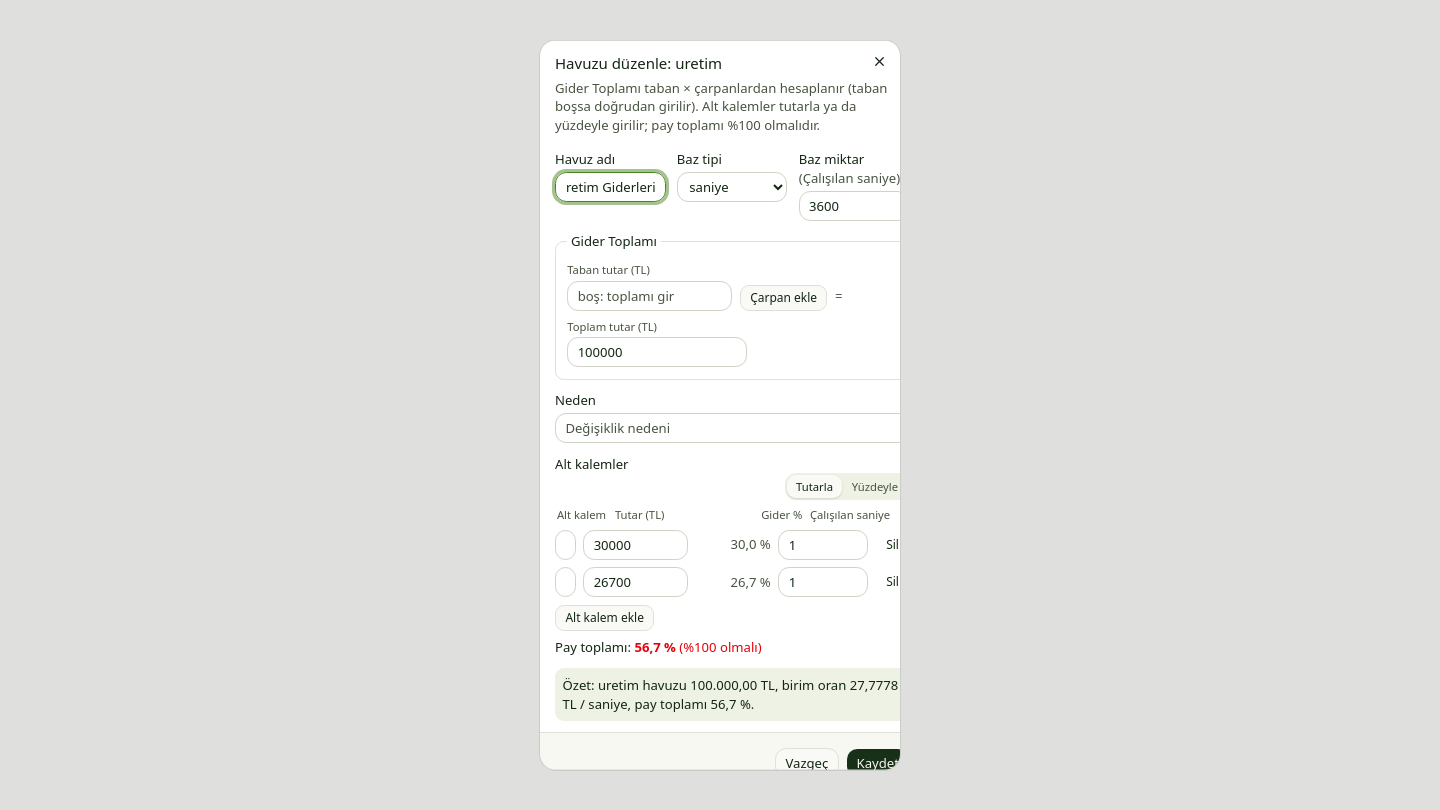
Scenario: HavuzDiyalogu (Faz 5b G1) › Yüzdeyle moduna geçince paylar dolar ve pay_orani ile gönderilir; alt kalem eklenip silinebilir
Later steps or results of the test are not shown.
Click the radio button labelled "Yüzdeyle": (875, 486) [842, 475, 907, 497]
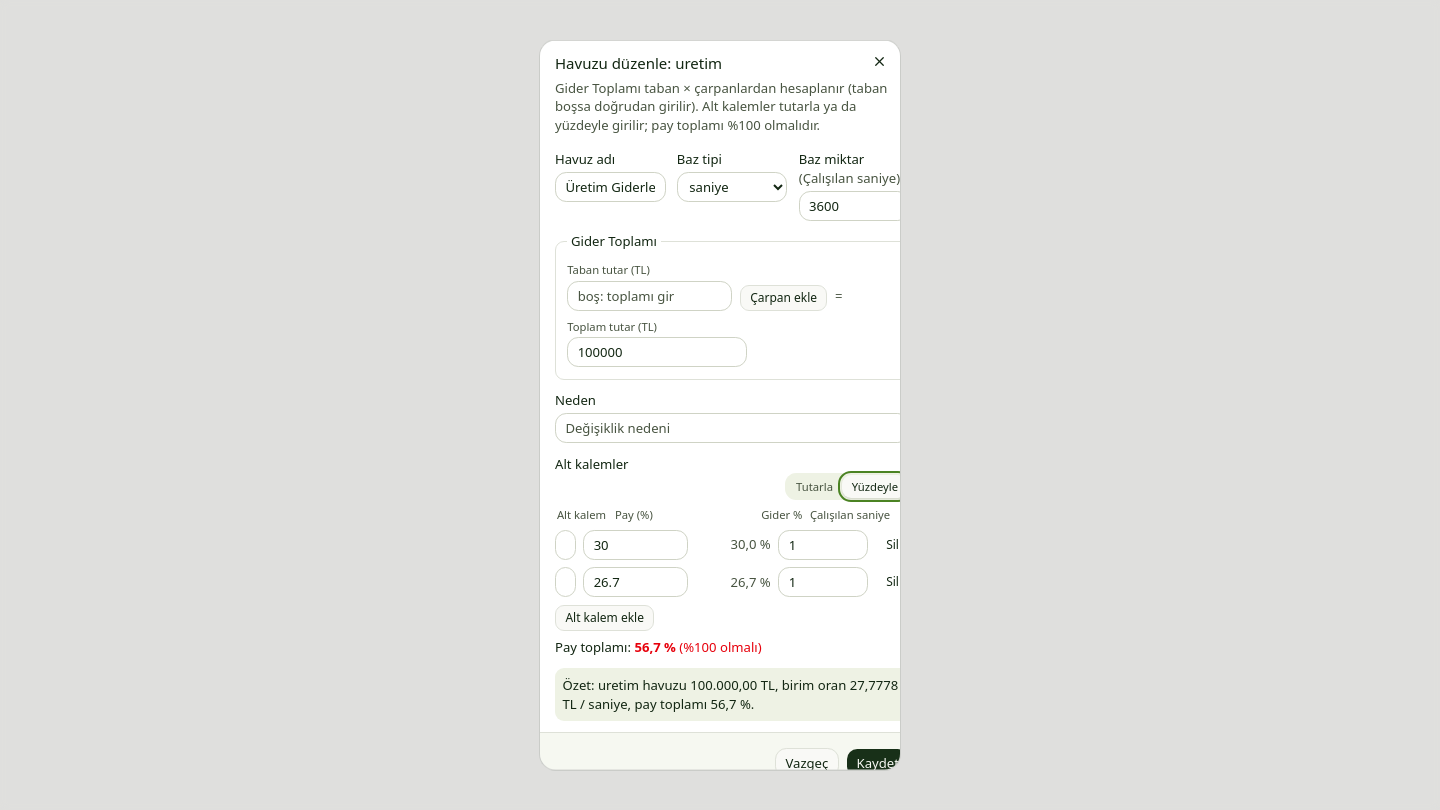
Result: the field named "Pay (%) 1" holds "30" at [583, 529, 688, 559]
Result: the field named "Pay (%) 2" holds "26.7" at [583, 566, 688, 596]
Click the button "Alt kalem ekle": (605, 617) [555, 604, 654, 630]
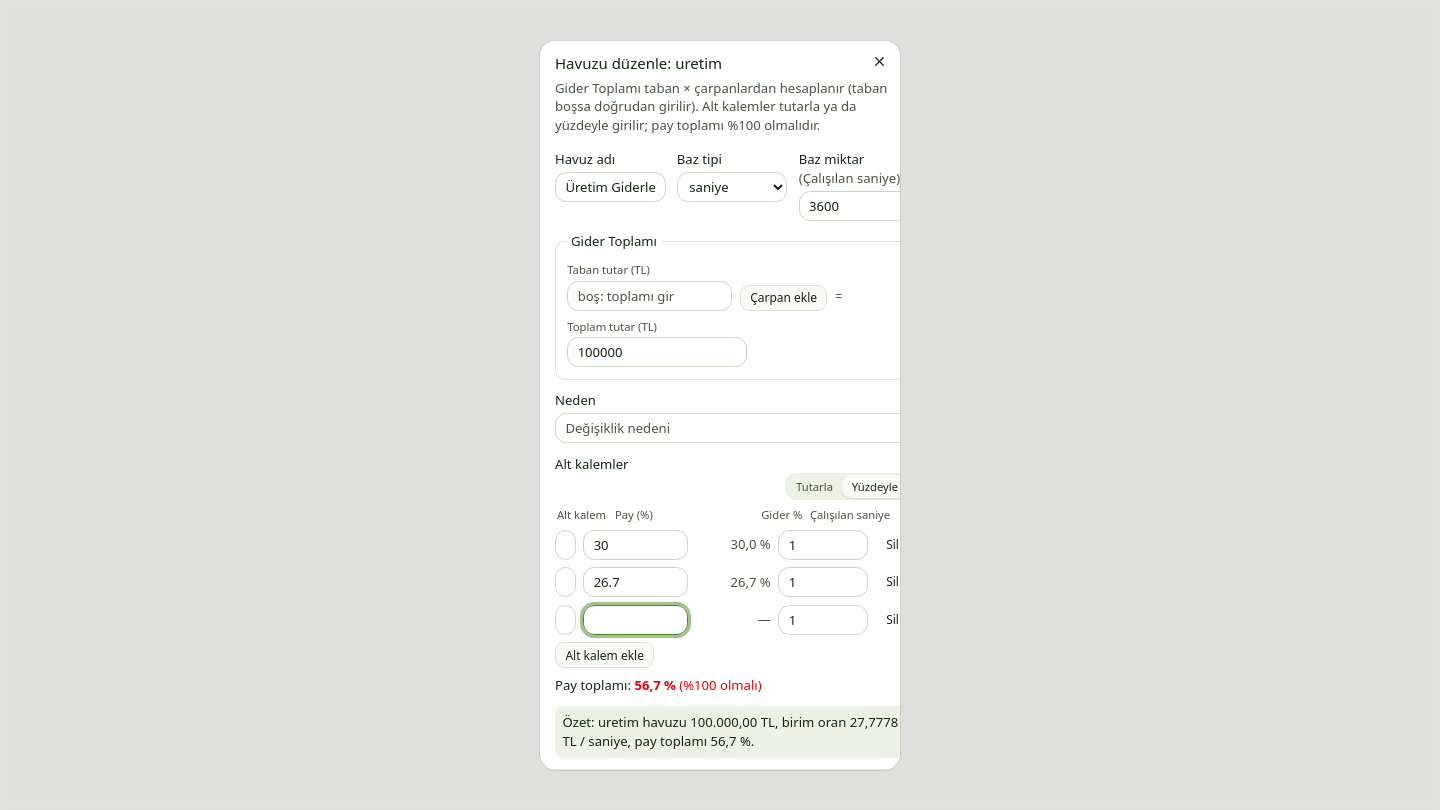
In the field named "Alt kalem 3": (565, 619) [555, 604, 576, 634], type "Torba"
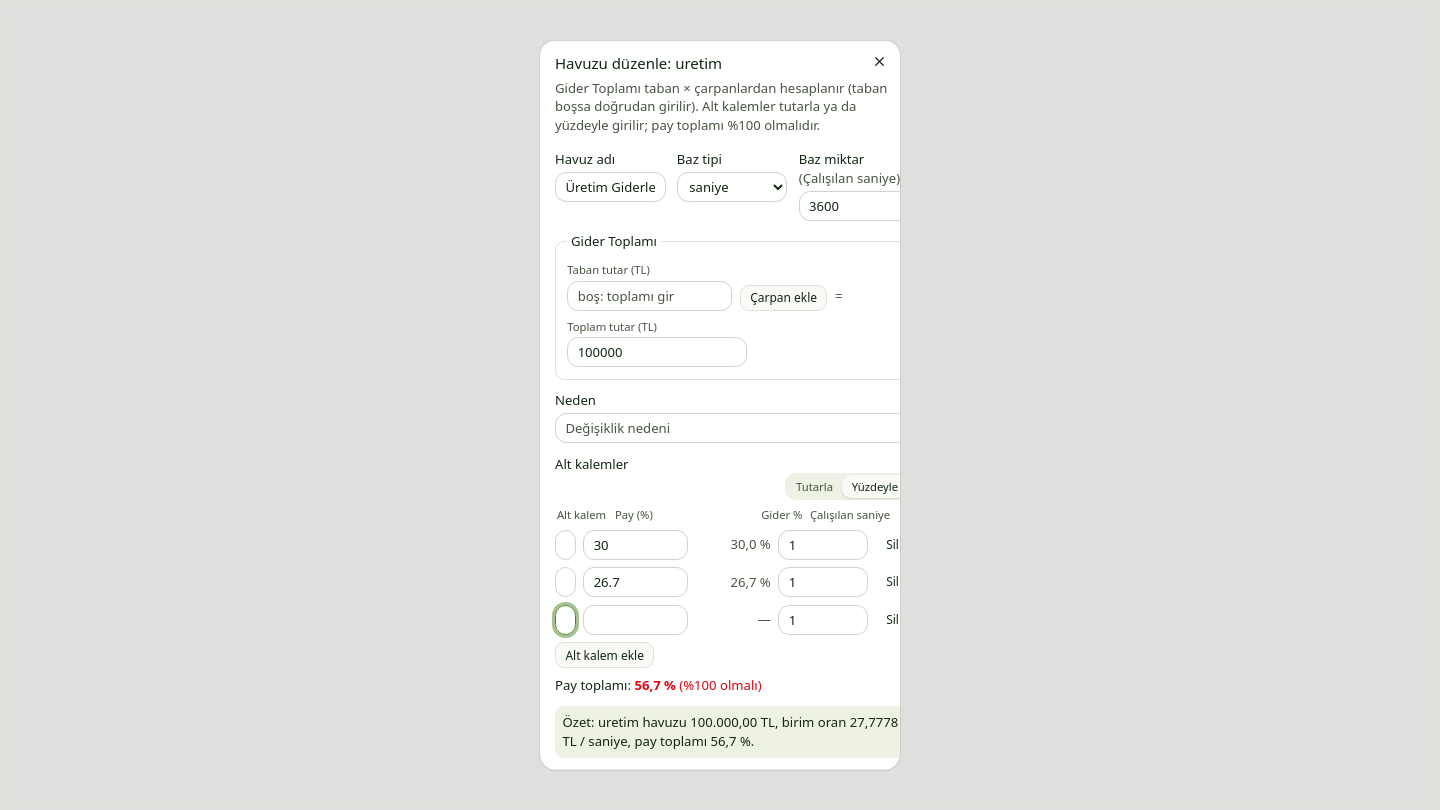
In the field named "Pay (%) 3": (636, 619) [583, 604, 688, 634], type "43,3"
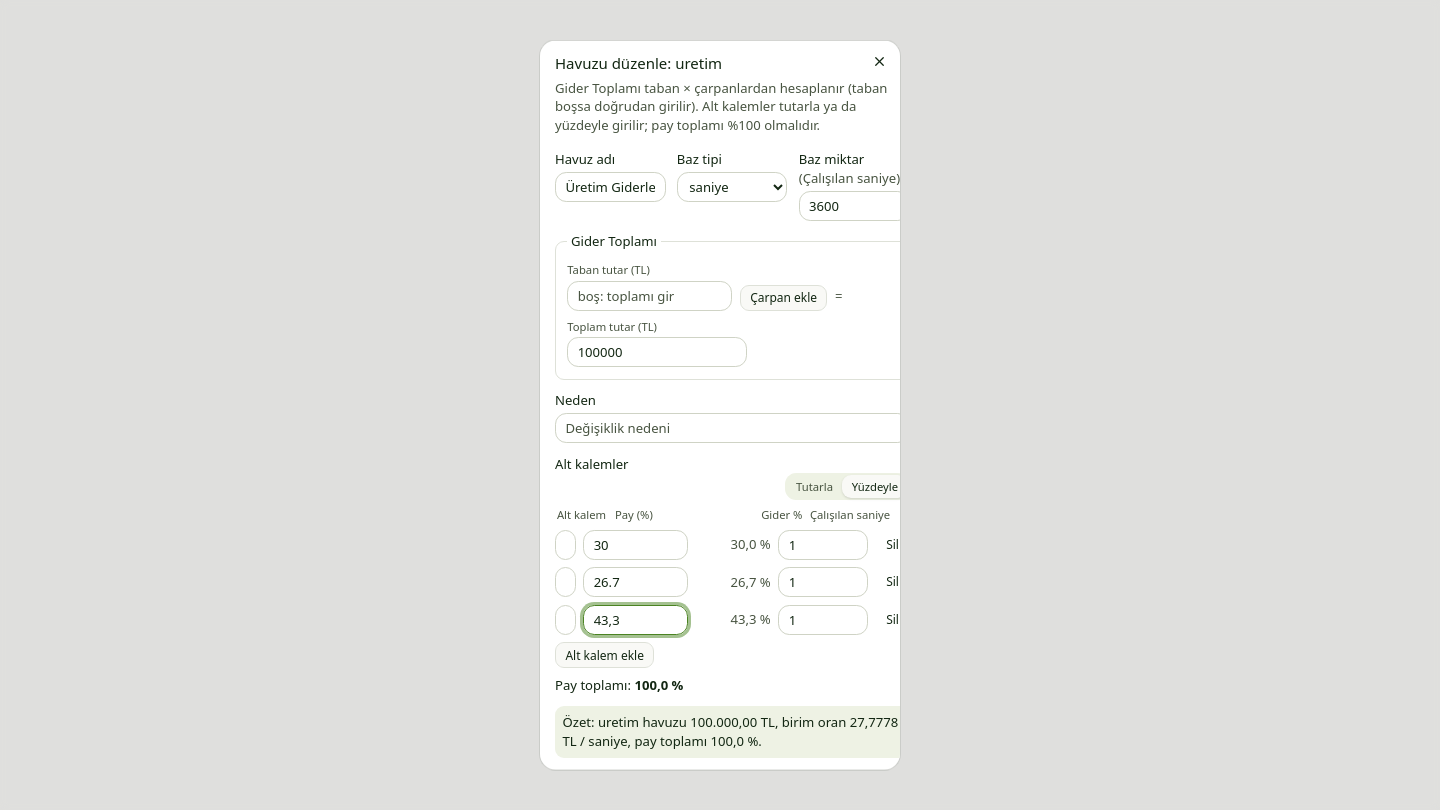
Result: the text with test id "form-pay-toplam" reads "100,0 %" at [634, 675, 683, 693]
Click the button with aria-label "Alt kalemi sil 1": (893, 544) [876, 531, 909, 557]
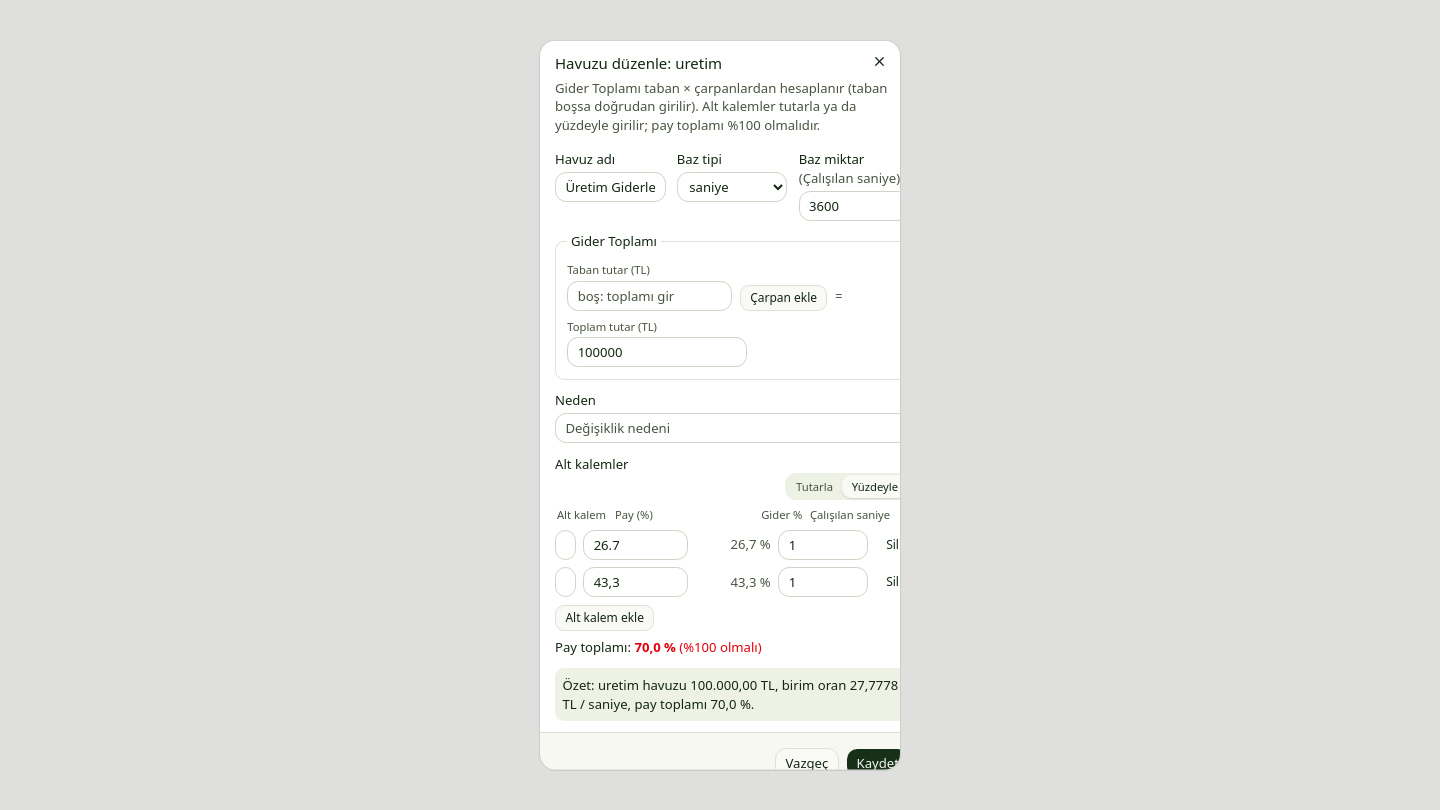
Result: the text with test id "form-pay-toplam" reads "70,0 %" at [634, 638, 676, 656]
